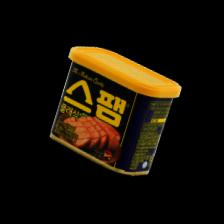spam: (40, 38, 186, 183)
